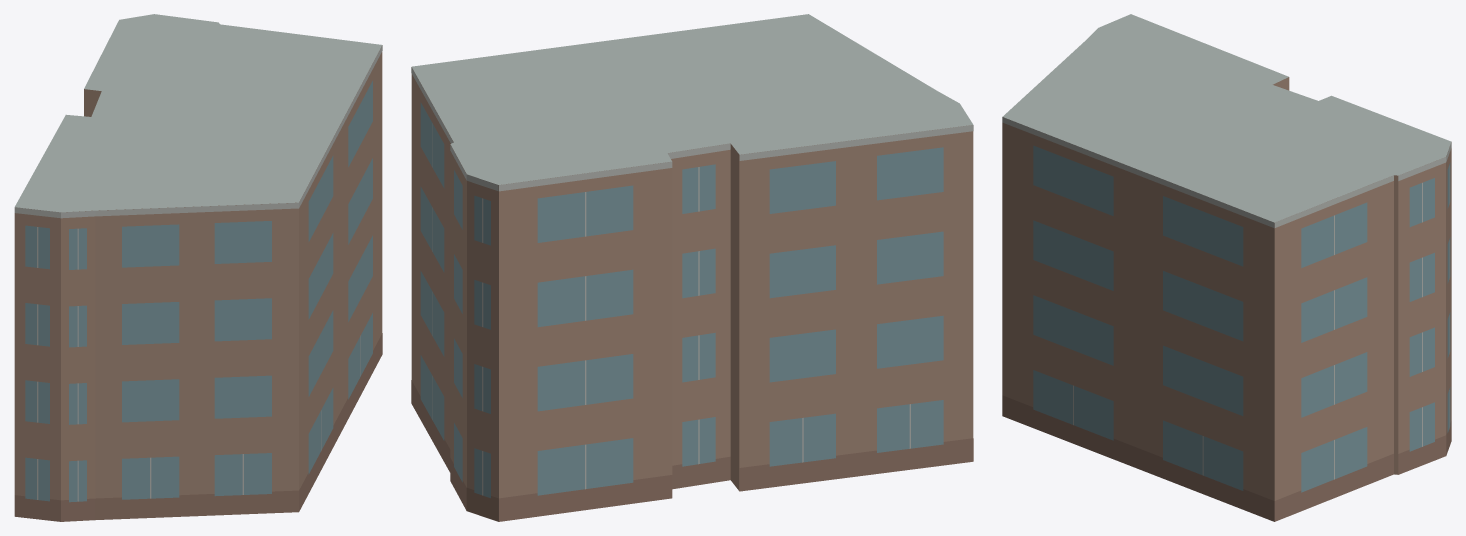
Rendered from survey-upis-32816138.glb.
The picture shows the model from 3 angles, left to right: view 1: azimuth 30°, elevation 25°; view 2: azimuth 150°, elevation 25°; view 3: azimuth 270°, elevation 25°; orthographic projection. The views are drawn at different scales.
Visible parts, largest first — view 1: survey-upis-32816138.tmp; view 2: survey-upis-32816138.tmp; view 3: survey-upis-32816138.tmp.
Part boxes in pixels (x1,y1,x2,y2): survey-upis-32816138.tmp: (14, 14, 382, 521); survey-upis-32816138.tmp: (411, 14, 973, 521); survey-upis-32816138.tmp: (1002, 14, 1451, 521).
Bounding box in the file's own units: 19.3 × 12.9 × 17.56.
